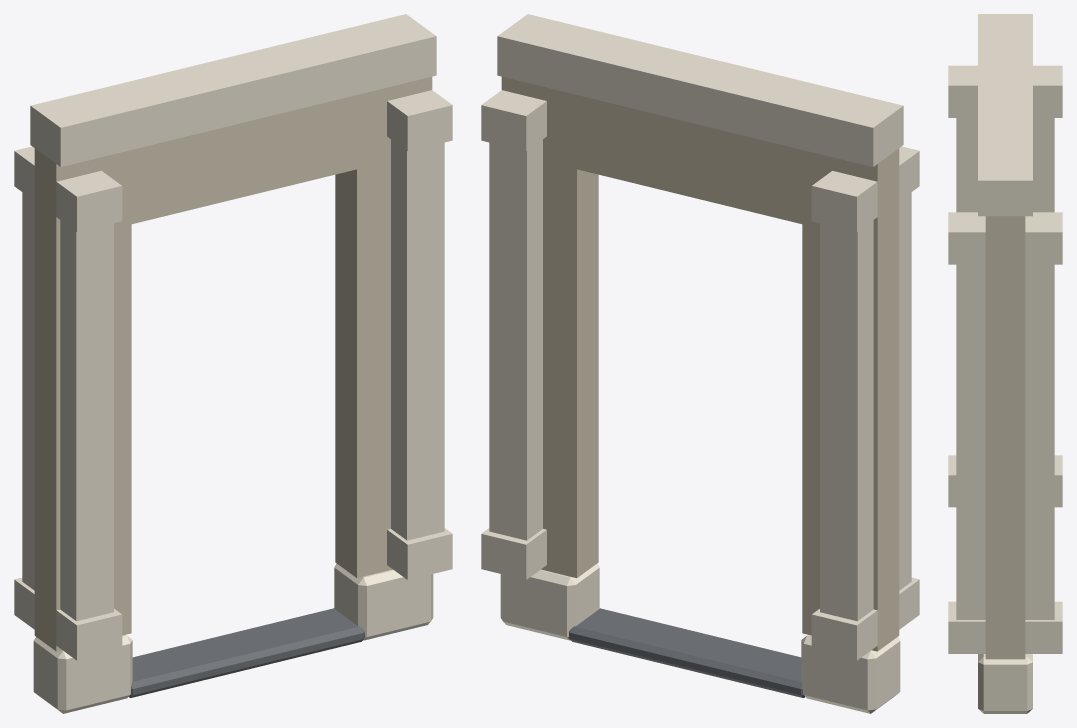
The model's file is installation-bank-wall-door.glb.
The picture shows the model from 3 angles, left to right: view 1: azimuth 30°, elevation 25°; view 2: azimuth 150°, elevation 25°; view 3: azimuth 270°, elevation 25°; orthographic projection. The views are drawn at different scales.
Visible parts, largest first — view 1: cornice, jamb_r, jamb_l, pilaster, pilaster.002, lintel, threshold, plinth_l, plinth_r, pilaster.001, capital.002, capital.006 (+4 smaller); view 2: cornice, jamb_r, jamb_l, pilaster.001, pilaster.003, lintel, threshold, plinth_l, plinth_r, pilaster, capital.003, capital.007 (+4 smaller); view 3: jamb_r, cornice, pilaster.002, pilaster.003, plinth_r, pilaster, pilaster.001, capital.006, capital.007, capital.002, capital.003, capital.004 (+3 smaller).
Part boxes in pixels (<box>): cornice: <box>30,14,436,166</box>; jamb_r: <box>335,76,432,578</box>; jamb_l: <box>34,148,131,651</box>; pilaster: <box>60,220,113,621</box>; pilaster.002: <box>391,139,444,540</box>; lintel: <box>131,95,356,223</box>; threshold: <box>129,608,364,697</box>; plinth_l: <box>33,634,132,713</box>; plinth_r: <box>334,564,433,640</box>; pilaster.001: <box>22,192,34,590</box>; capital.002: <box>56,171,122,231</box>; capital.006: <box>387,90,452,151</box>; cornice: <box>497,14,903,166</box>; jamb_r: <box>501,76,598,578</box>; jamb_l: <box>802,148,899,651</box>; pilaster.001: <box>820,220,873,621</box>; pilaster.003: <box>489,139,542,540</box>; lintel: <box>577,95,802,223</box>; threshold: <box>569,608,804,697</box>; plinth_l: <box>801,634,900,713</box>; plinth_r: <box>500,564,599,640</box>; pilaster: <box>899,192,911,590</box>; capital.003: <box>811,171,877,231</box>; capital.007: <box>481,90,546,151</box>; jamb_r: <box>985,216,1025,659</box>; cornice: <box>978,14,1032,216</box>; pilaster.002: <box>956,264,985,619</box>; pilaster.003: <box>1025,264,1054,619</box>; plinth_r: <box>978,654,1032,713</box>; pilaster: <box>956,118,977,212</box>; pilaster.001: <box>1033,118,1054,212</box>; capital.006: <box>948,212,985,264</box>; capital.007: <box>1025,212,1062,264</box>; capital.002: <box>948,65,977,117</box>; capital.003: <box>1033,65,1062,117</box>; capital.004: <box>948,601,985,653</box>.
Bounding box in the file's own units: 1 × 1.5 × 0.29.
